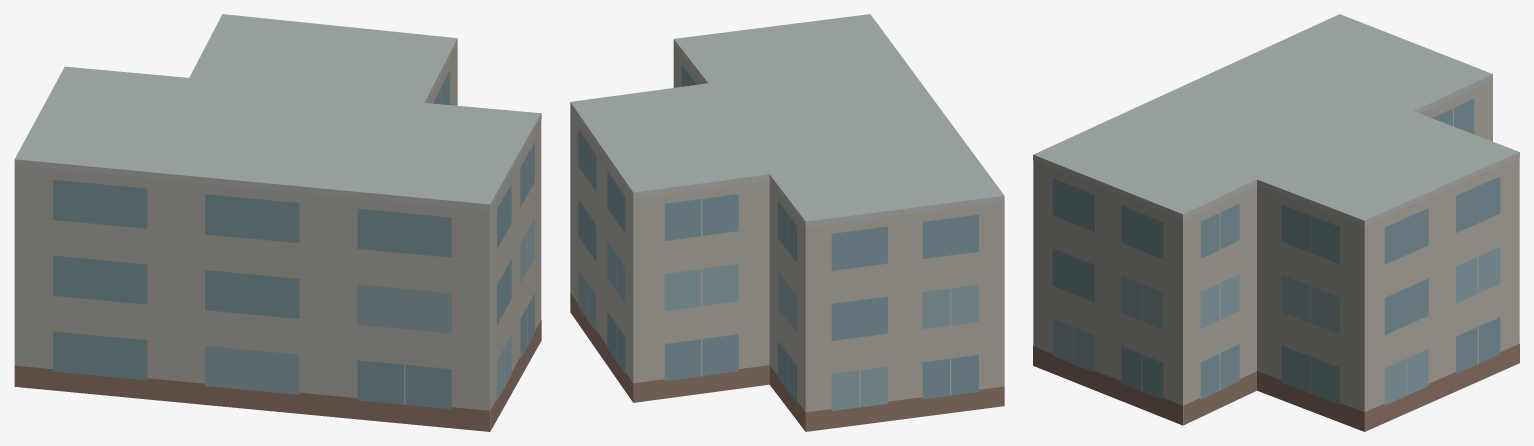
Rendered from survey-upis-32911800.glb.
The picture shows the model from 3 angles, left to right: view 1: azimuth 30°, elevation 25°; view 2: azimuth 150°, elevation 25°; view 3: azimuth 270°, elevation 25°; orthographic projection. The views are drawn at different scales.
Visible parts, largest first — view 1: survey-upis-32911800.tmp; view 2: survey-upis-32911800.tmp; view 3: survey-upis-32911800.tmp.
Part boxes in pixels (box(x1,y1,x2,y2)): survey-upis-32911800.tmp: box(14, 14, 541, 431); survey-upis-32911800.tmp: box(570, 14, 1004, 431); survey-upis-32911800.tmp: box(1033, 14, 1519, 431).
Bounding box in the file's own units: 19.22 × 9.15 × 19.12.
